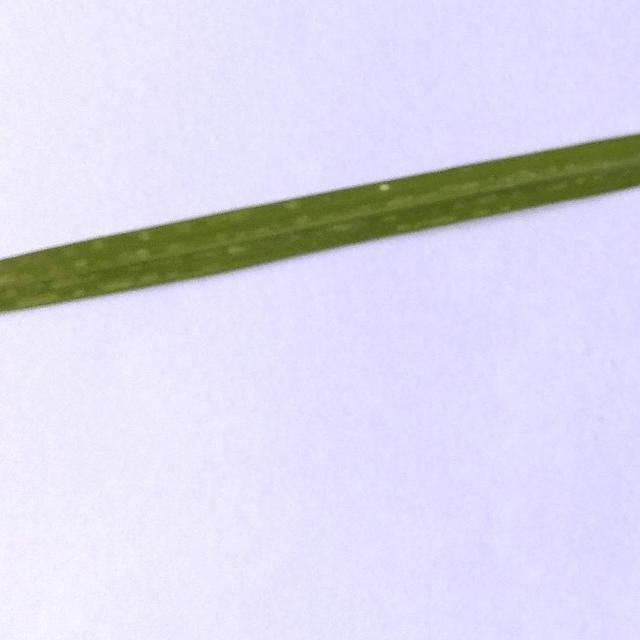Blast: (380, 182, 404, 196)
